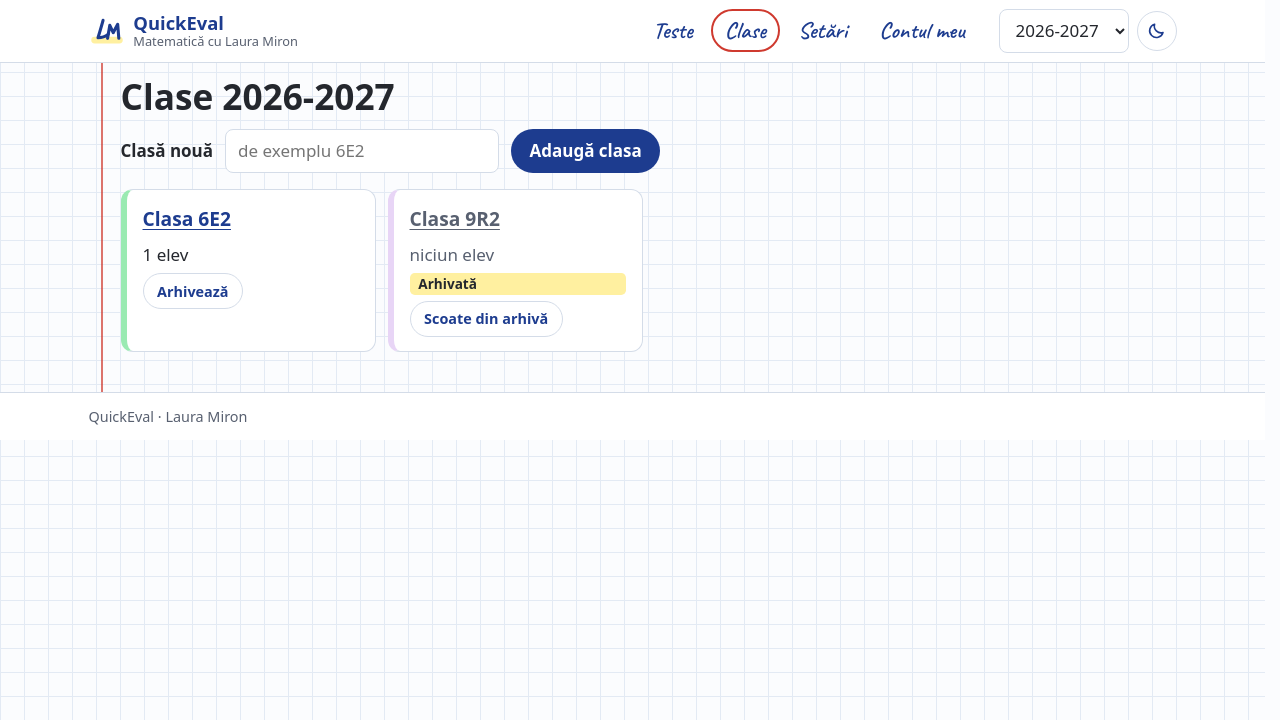
it: ClassesPage › shows the server message when the class already exists
Step 1. Type "6E2" into the field labelled "Clasă nouă" → [362, 151], box [225,129,499,173]
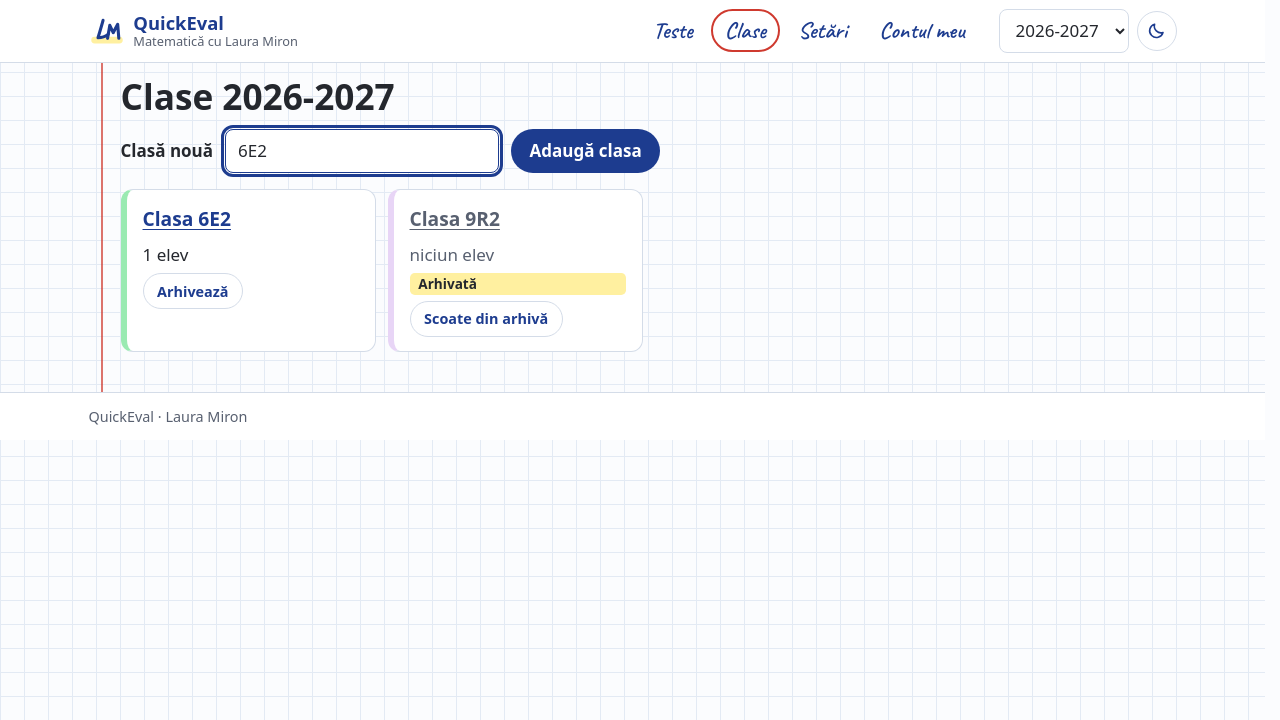
Step 2. Click the button "Adaugă clasa" → [586, 151], box [511,129,660,173]
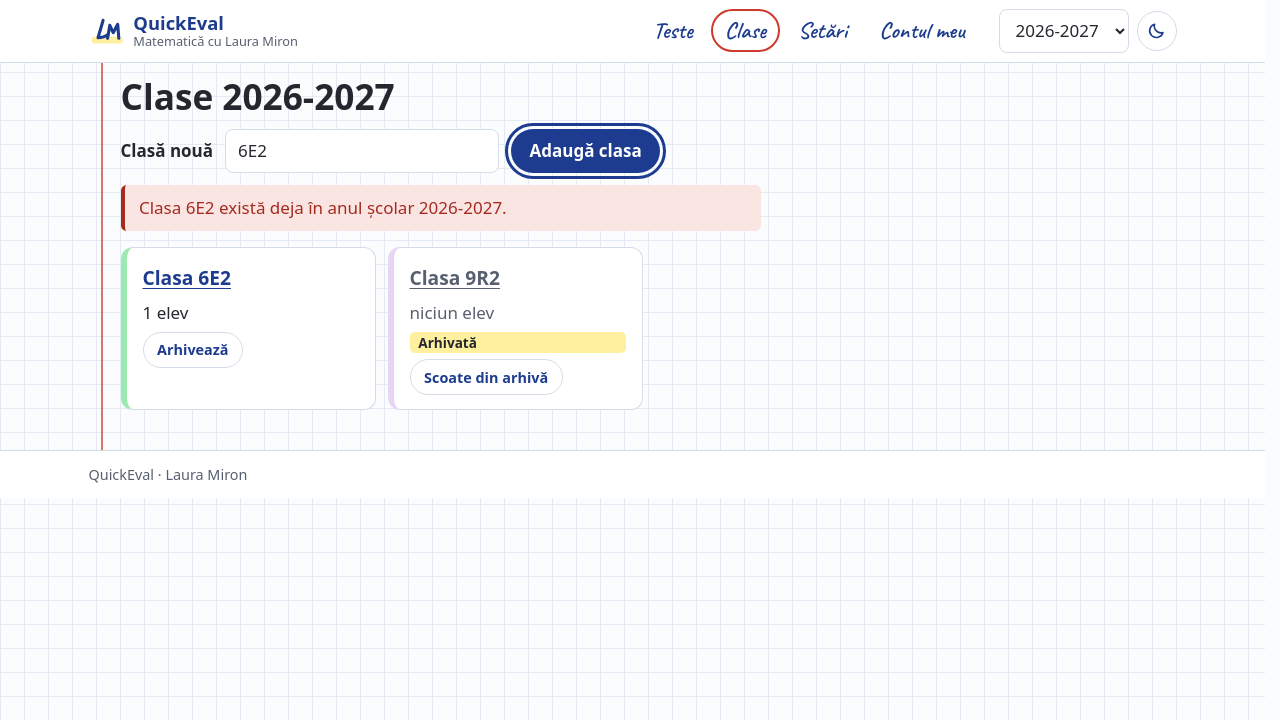
expect the message reads "Clasa 6E2 există deja în anul școlar 2026-2027.": met, box [139,196,507,219]
